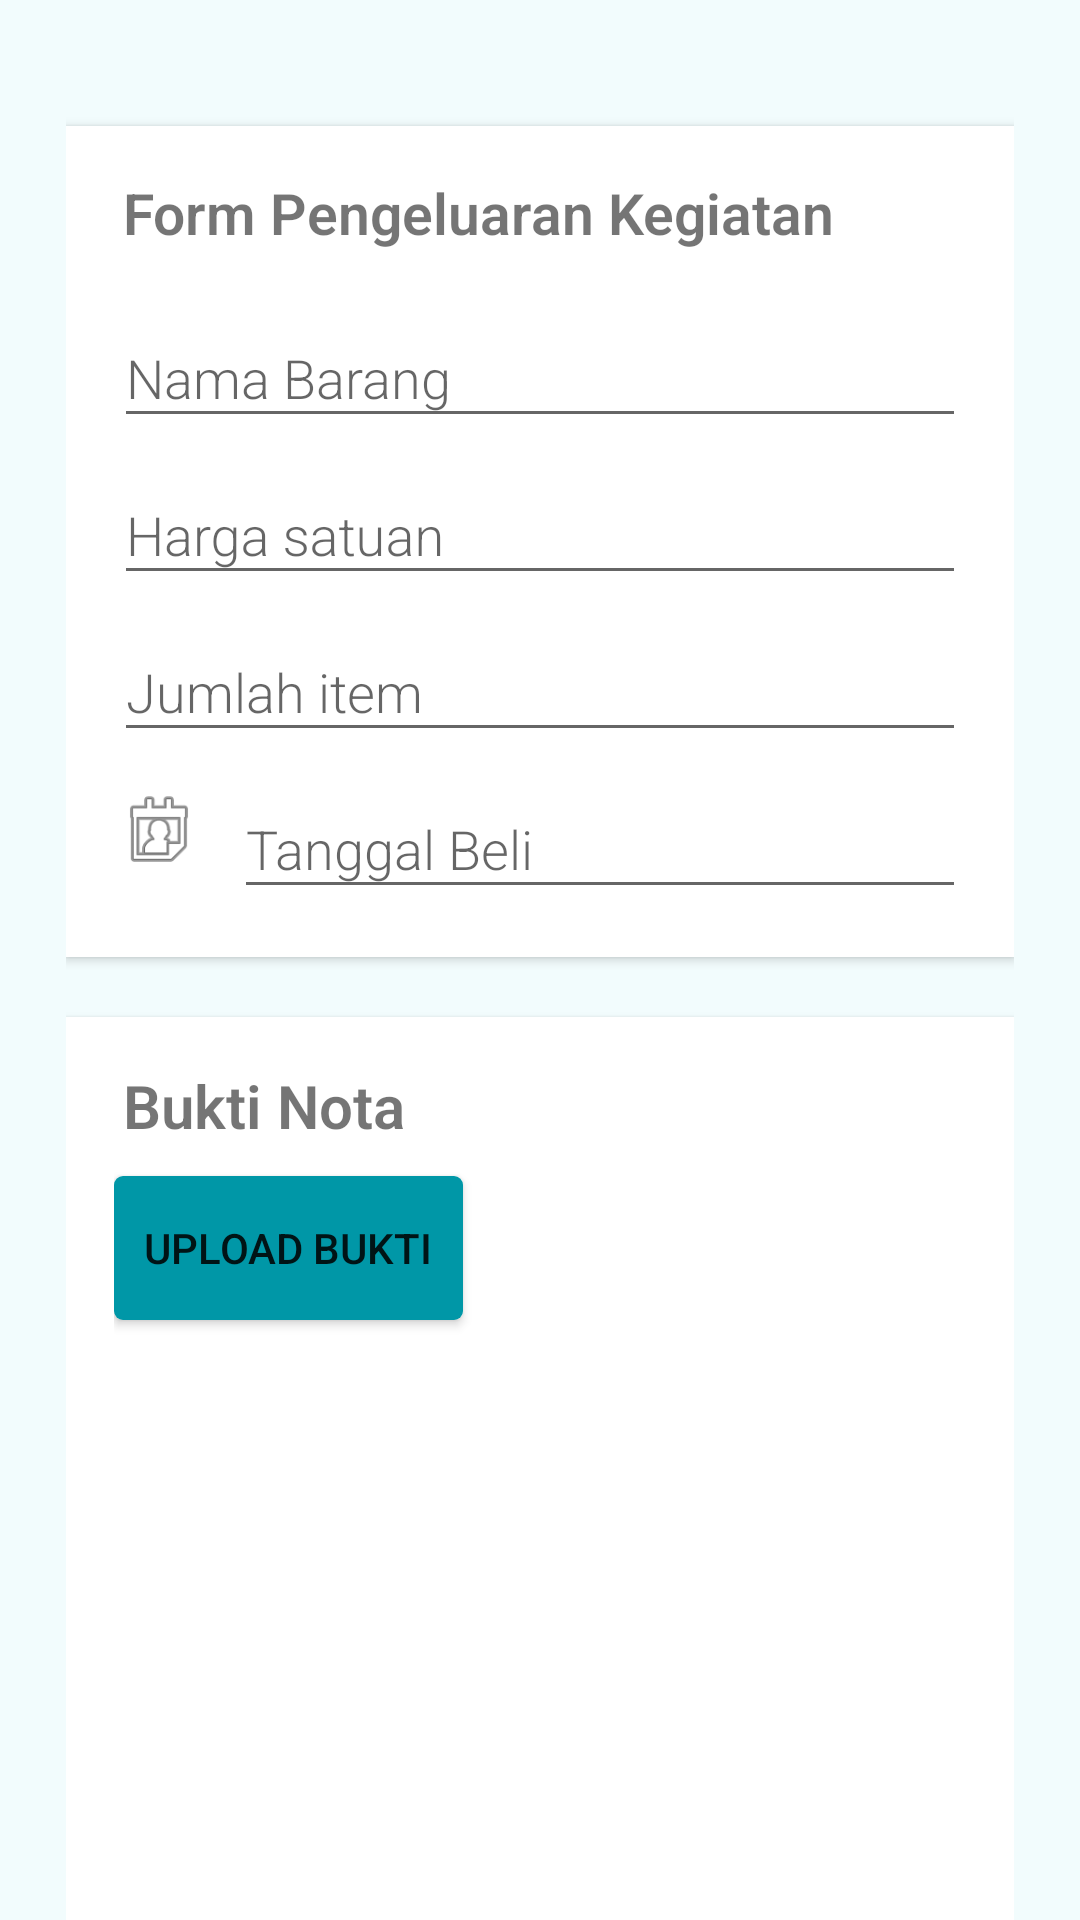

Named icons in this screenshot (1080×1920) and their bounding boxes, (x1, y1, x2, y2):
calendar: (130, 796, 188, 862)
